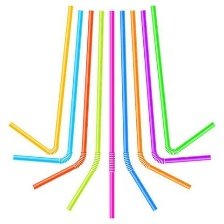drinking_straw: (145, 2, 218, 158), (3, 3, 76, 159), (63, 9, 106, 215), (119, 7, 160, 215), (104, 9, 117, 221)
